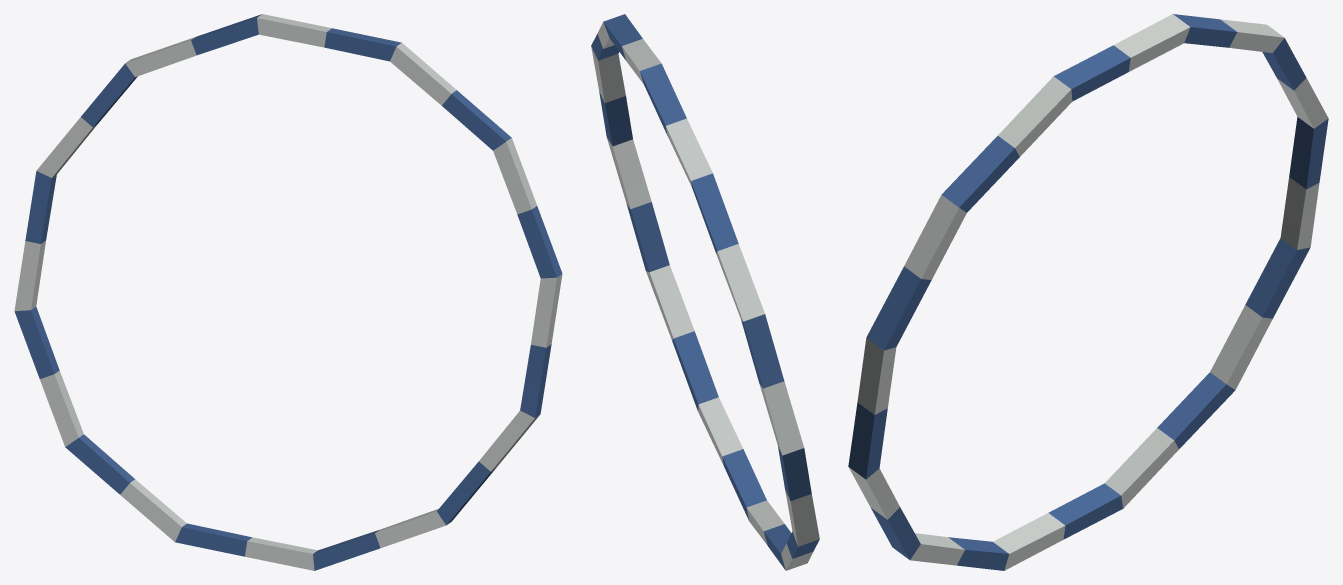
The model's file is ring 1.fbx.
The picture shows the model from 3 angles, left to right: view 1: azimuth 30°, elevation 25°; view 2: azimuth 150°, elevation 25°; view 3: azimuth 270°, elevation 25°; orthographic projection. The views are drawn at different scales.
Visible parts, largest first — view 1: SM_Prop_Plane_Ring_01__1_; view 2: SM_Prop_Plane_Ring_01__1_; view 3: SM_Prop_Plane_Ring_01__1_.
Part boxes in pixels (bbox=[...]): SM_Prop_Plane_Ring_01__1_: bbox=[14, 14, 562, 570]; SM_Prop_Plane_Ring_01__1_: bbox=[591, 14, 819, 570]; SM_Prop_Plane_Ring_01__1_: bbox=[848, 14, 1328, 570].
Size of the model in its own units: 1317 by 1678 by 1298.
Materials: 1 (1 with a texture image).
